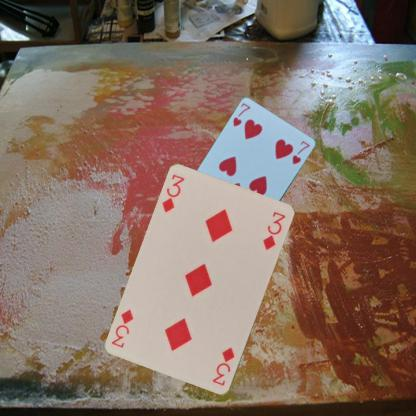3d: (210, 345, 236, 387), (160, 172, 186, 214)
7h: (230, 100, 252, 129)
